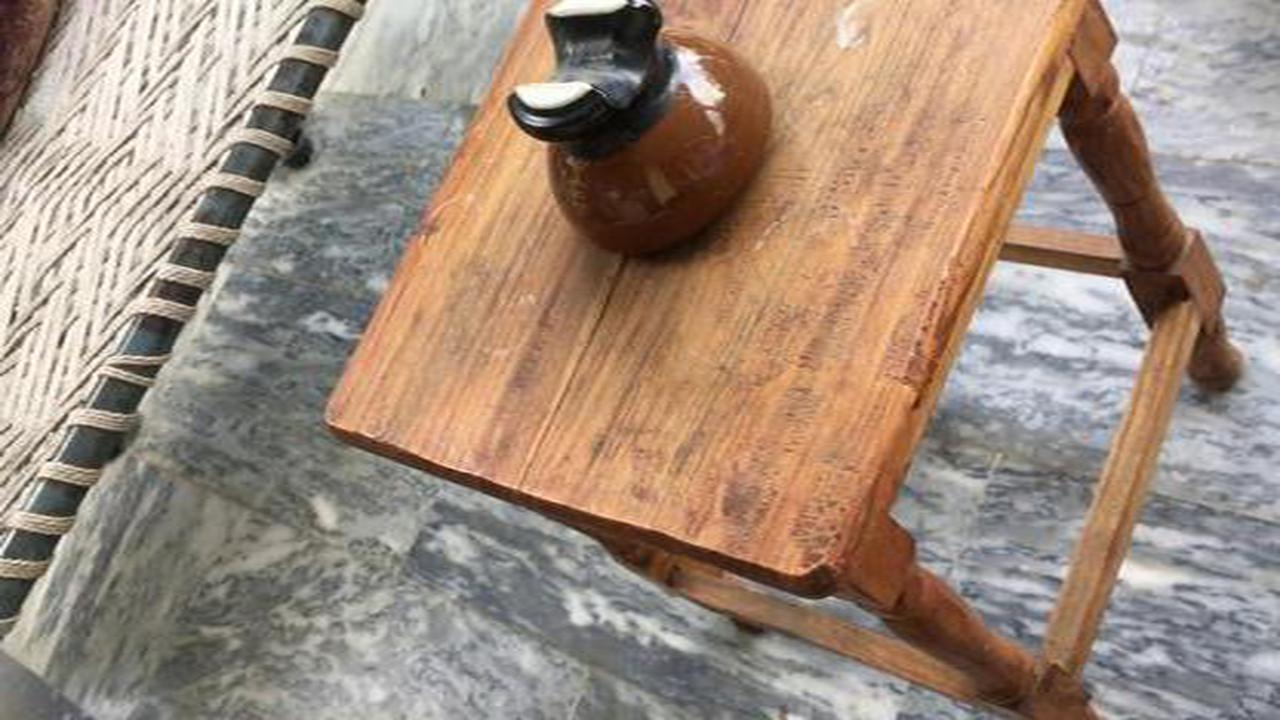insulator_pin: (496, 1, 779, 267)
